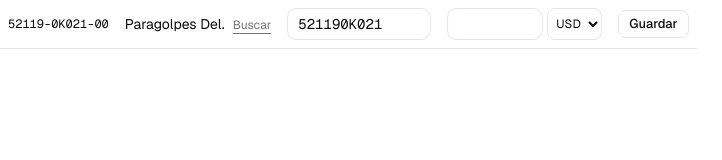
it: muestra el error del campo o el general
This screenshot has width=722, height=160.
Step 1. Click the button "Guardar" → (653, 24), box [618,10,689,38]
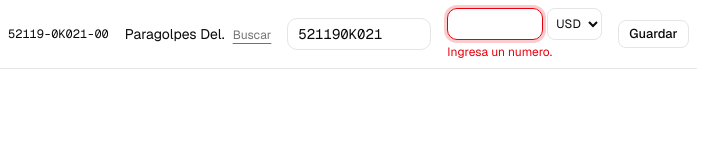
Now the text "Ingresa un numero." is shown, box [447,44,552,60]
Step 2. Click the button "Guardar" → (653, 34), box [618,20,689,48]
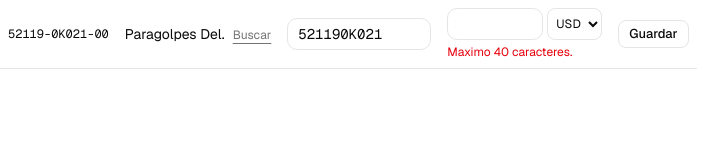
Now the text "Maximo 40 caracteres." is shown, box [447,44,572,60]
Step 3. Click the button "Guardar" → (653, 34), box [618,20,689,48]
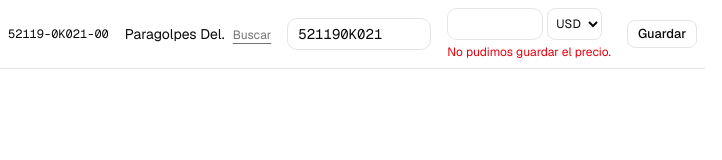
Now the text "No pudimos guardar el precio." is shown, box [447,44,611,60]
